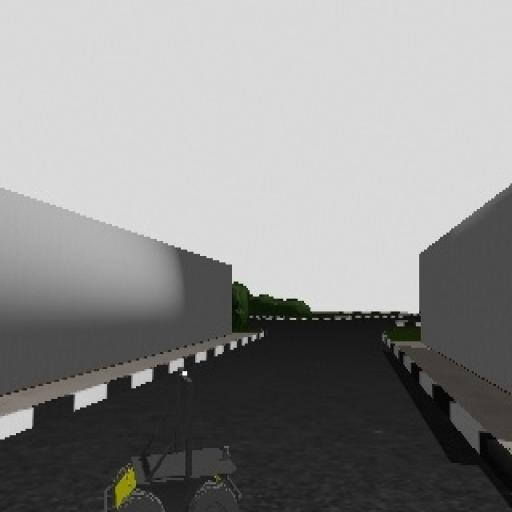huskya200: (101, 362, 263, 512)
